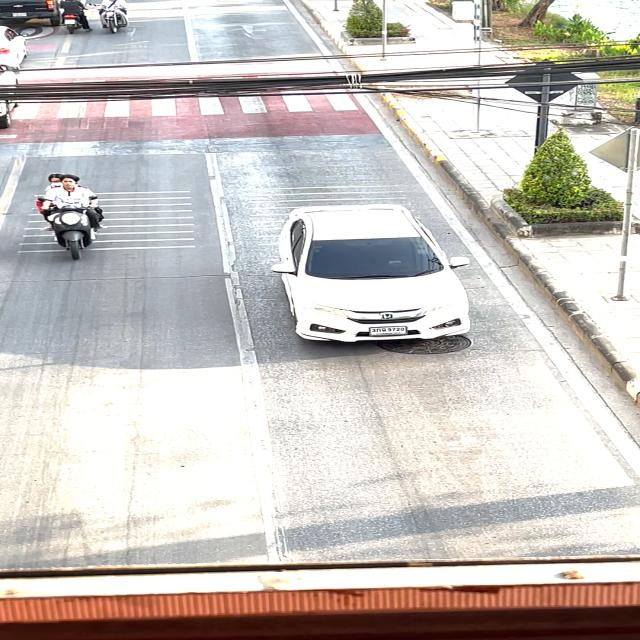car: (264, 194, 471, 367)
